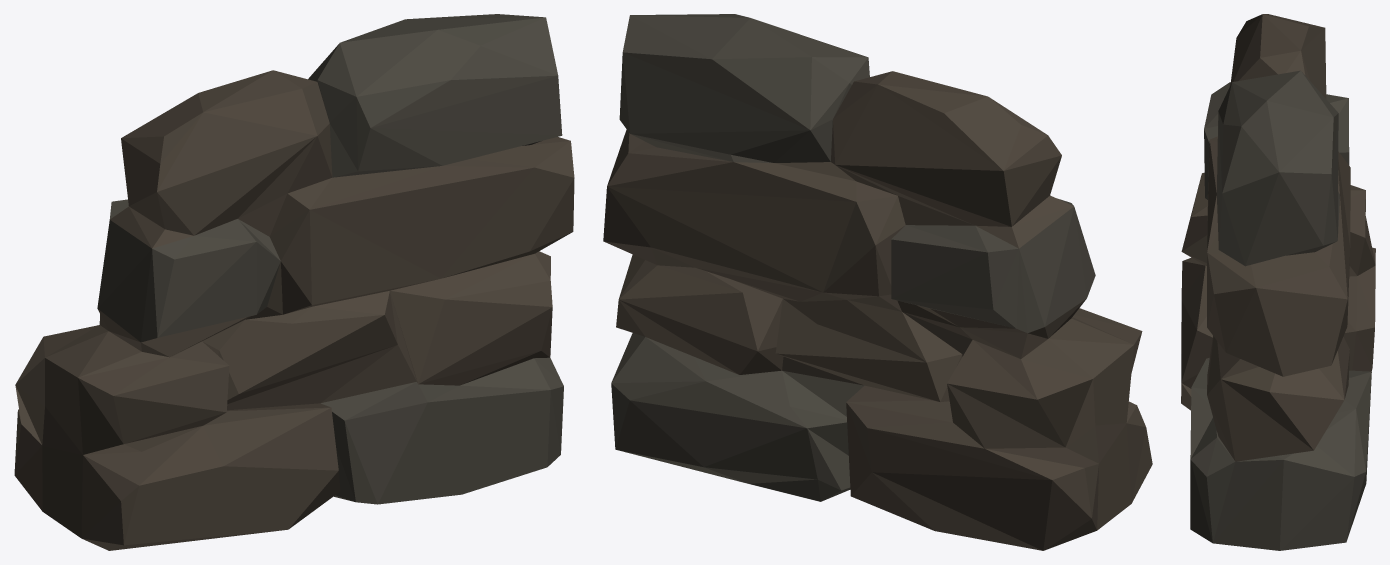
3 renders of one model, left to right at view 1: azimuth 30°, elevation 25°; view 2: azimuth 150°, elevation 25°; view 3: azimuth 270°, elevation 25°, orthographic. The views are drawn at different scales.
Visible parts, largest first — view 1: SM_Prop_StoneWall_03; view 2: SM_Prop_StoneWall_03; view 3: SM_Prop_StoneWall_03.
Boxes of the visible parts, x1,y1,x2,y2 form: SM_Prop_StoneWall_03: (14, 14, 574, 550); SM_Prop_StoneWall_03: (603, 14, 1152, 550); SM_Prop_StoneWall_03: (1181, 14, 1375, 550).
Size of the model in its own units: 1.33 by 1.08 by 0.4678.
Materials: 1 (1 with a texture image).
